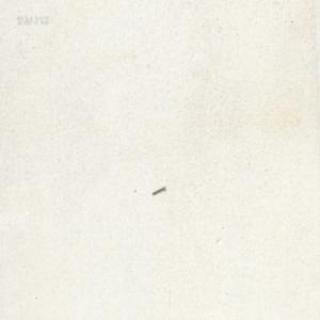Bolttrack_idkeyframe: (150, 184, 164, 195)
